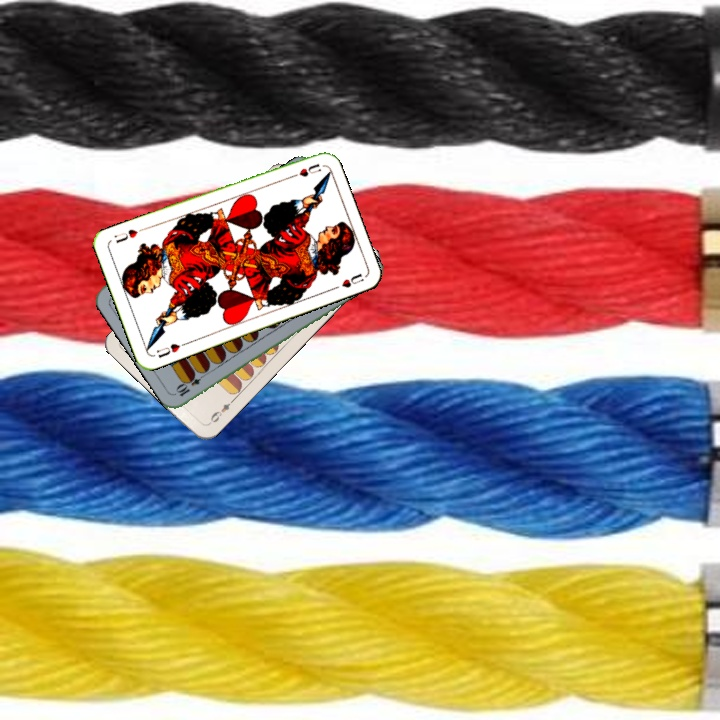E10: (172, 368, 209, 399)
E9: (204, 395, 237, 427)
HU: (152, 338, 189, 361), (285, 159, 323, 181)
